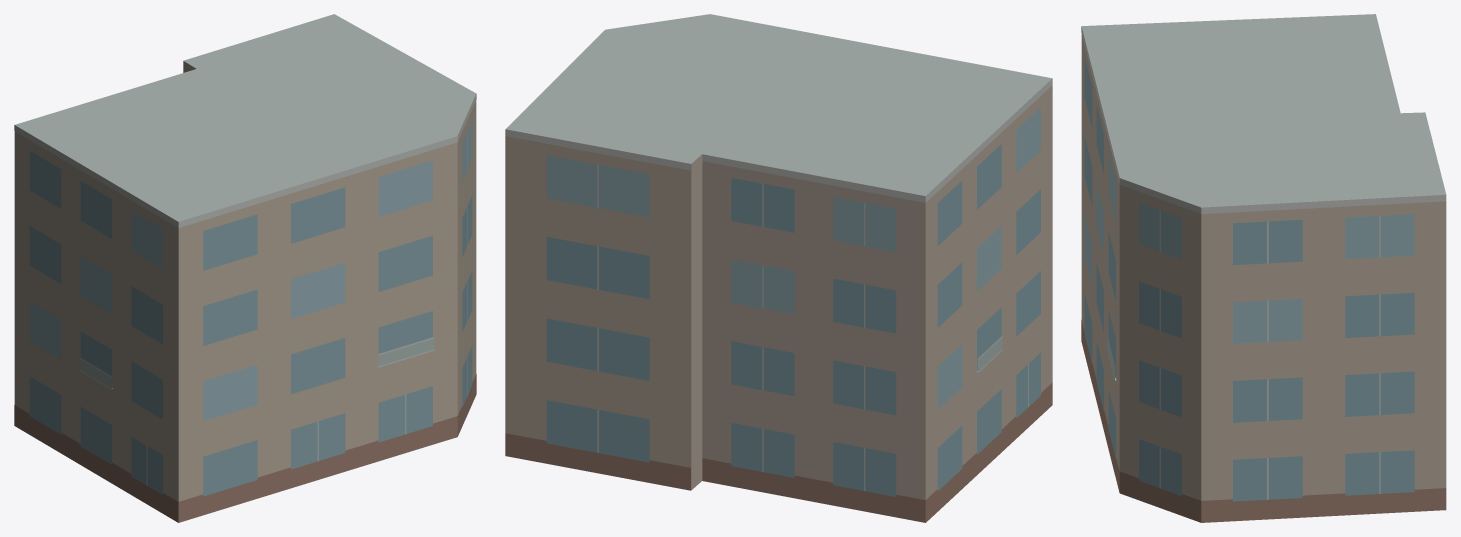
The model's file is survey-upis-32826981.glb.
3 renders of one model, left to right at view 1: azimuth 30°, elevation 25°; view 2: azimuth 150°, elevation 25°; view 3: azimuth 270°, elevation 25°, orthographic. The views are drawn at different scales.
Parts seen in each view (by area): view 1: survey-upis-32826981.tmp; view 2: survey-upis-32826981.tmp; view 3: survey-upis-32826981.tmp.
Part boxes in pixels (left/top/right/bottom): survey-upis-32826981.tmp: left=14, top=14, right=476, bottom=522; survey-upis-32826981.tmp: left=505, top=14, right=1052, bottom=522; survey-upis-32826981.tmp: left=1081, top=14, right=1446, bottom=522.
Size of the model in its own units: 15.48 by 11.75 by 12.33.
